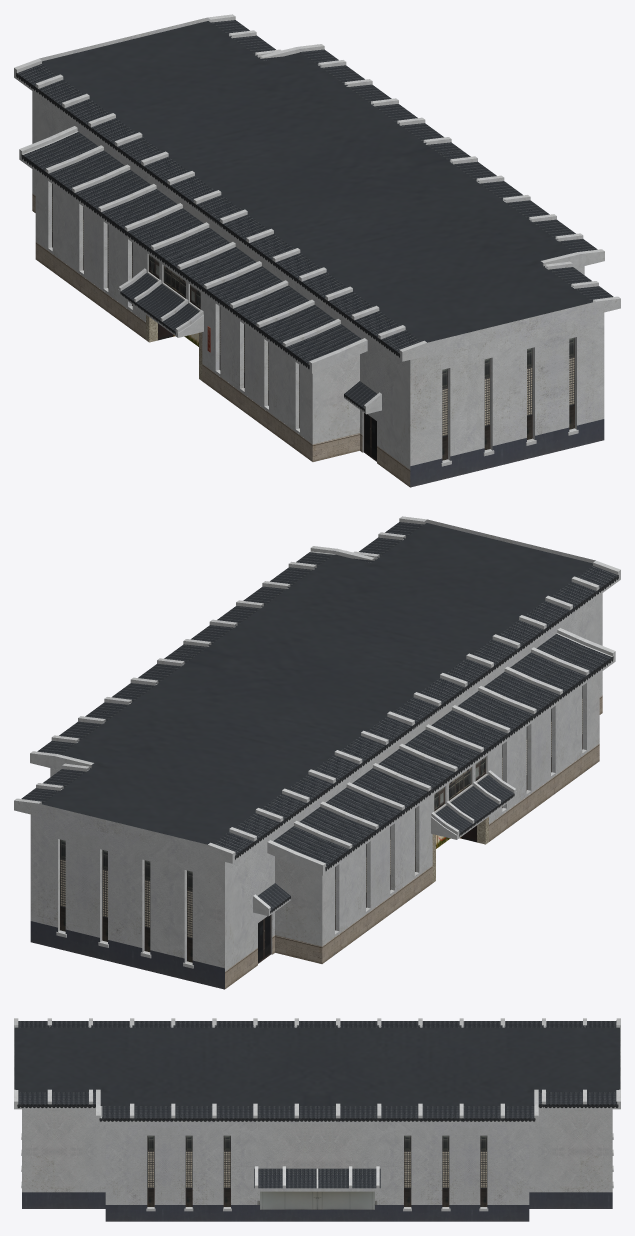
Rendered from Building_Chenyunwenwu.FBX.
3 views of the same model, one above another, from view 1: azimuth 30°, elevation 25°; view 2: azimuth 150°, elevation 25°; view 3: azimuth 270°, elevation 25° (orthographic). The views are drawn at different scales.
Visible parts, largest first — view 1: Building_Chenyunwenwu; view 2: Building_Chenyunwenwu; view 3: Building_Chenyunwenwu.
Part boxes in pixels (x1=…): Building_Chenyunwenwu: x1=14, y1=14, x2=620, y2=487; Building_Chenyunwenwu: x1=14, y1=516, x2=620, y2=989; Building_Chenyunwenwu: x1=14, y1=1018, x2=620, y2=1221.
Bounding box in the file's own units: 2543 × 1083 × 5227.
